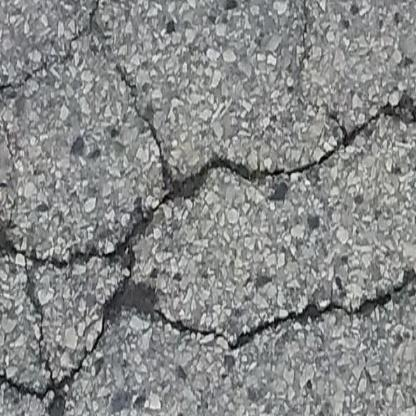Cracks: (0, 56, 416, 416), (0, 0, 107, 157), (295, 0, 315, 85)
